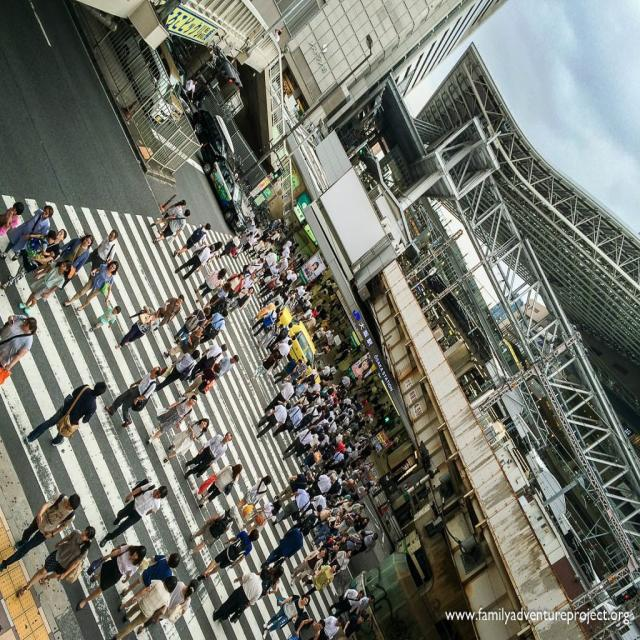body: (222, 213, 407, 594), (409, 276, 474, 403), (0, 489, 82, 578), (10, 522, 97, 604), (23, 380, 108, 448), (96, 475, 170, 551), (72, 540, 149, 612), (107, 573, 179, 639), (1, 227, 68, 291), (135, 575, 200, 635), (103, 364, 162, 430), (118, 552, 182, 612), (210, 564, 272, 625), (197, 527, 260, 583), (61, 258, 123, 314), (278, 72, 324, 146), (0, 202, 56, 262), (17, 256, 72, 313), (145, 392, 199, 447), (185, 505, 239, 557), (183, 431, 234, 481), (194, 462, 244, 511), (161, 416, 211, 465), (260, 523, 311, 571), (259, 592, 312, 638), (114, 304, 166, 350), (54, 234, 94, 292), (0, 312, 38, 373), (154, 348, 200, 392), (270, 487, 317, 529), (233, 473, 273, 520), (162, 324, 206, 366), (84, 228, 118, 282), (186, 343, 229, 385), (173, 242, 216, 281), (242, 498, 283, 538), (289, 545, 327, 588), (180, 362, 222, 399), (152, 208, 192, 246), (172, 307, 212, 345), (171, 221, 212, 257), (256, 401, 293, 440), (15, 227, 57, 261), (150, 198, 187, 235), (213, 135, 236, 193), (282, 425, 318, 462), (302, 562, 341, 596), (154, 294, 186, 334), (273, 472, 313, 504), (193, 267, 228, 303), (264, 378, 298, 415), (286, 610, 327, 640), (198, 307, 230, 345), (87, 298, 122, 332), (272, 404, 307, 438), (328, 588, 366, 619), (256, 563, 285, 601), (0, 200, 26, 238), (202, 280, 232, 312), (228, 272, 258, 303), (212, 354, 240, 384), (227, 285, 255, 314), (317, 613, 347, 640), (348, 593, 377, 619), (341, 611, 366, 640), (249, 191, 279, 213), (301, 432, 325, 455), (226, 272, 246, 298), (206, 241, 224, 267), (172, 41, 188, 67), (242, 257, 264, 275), (250, 265, 268, 287), (183, 78, 198, 104), (197, 83, 212, 109), (418, 126, 430, 156), (274, 28, 284, 44)
